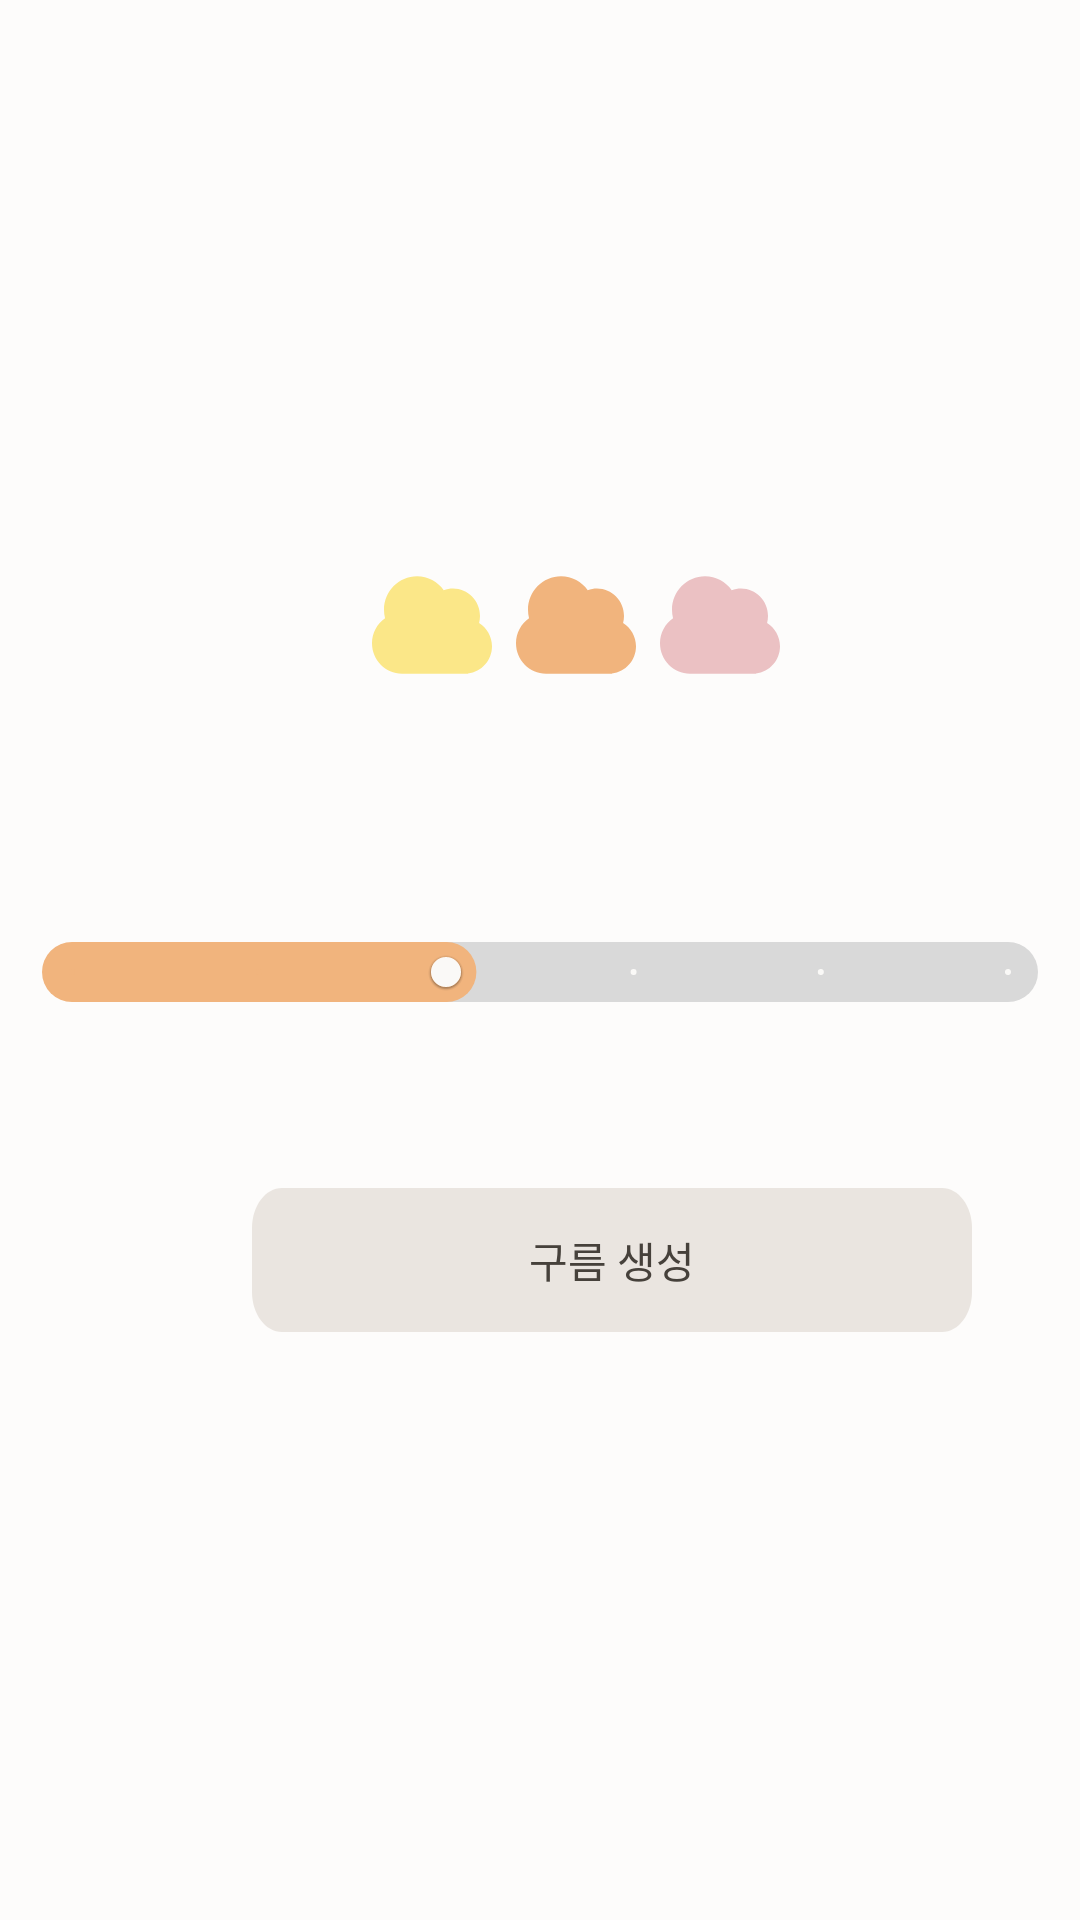

Locate icon controls on the screen. Image size 1080*1920, boxes as (x1, y1, x2, y2).
cloud: (372, 576, 492, 674), (516, 576, 636, 674)
